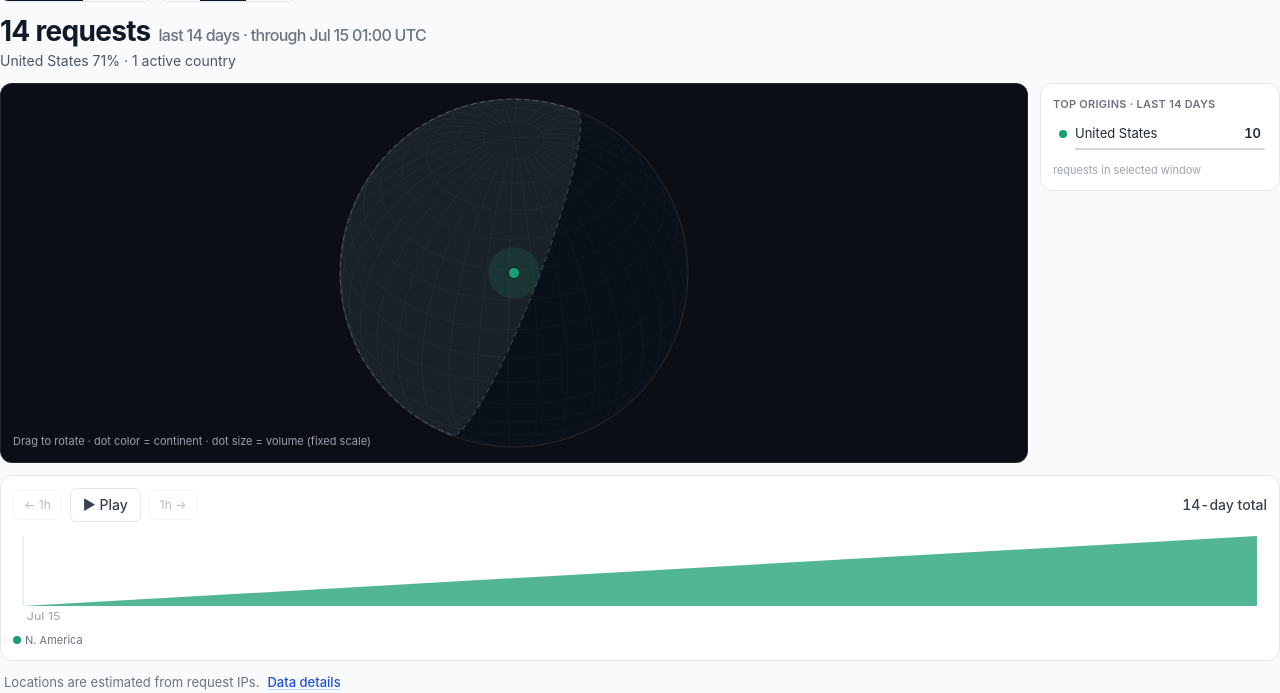
GeoGlobe › opens data details with totals, coverage, and DB-IP attribution
(page scrolled)
Click the button "Data details". click: (304, 683)
box: [268,673,341,692]
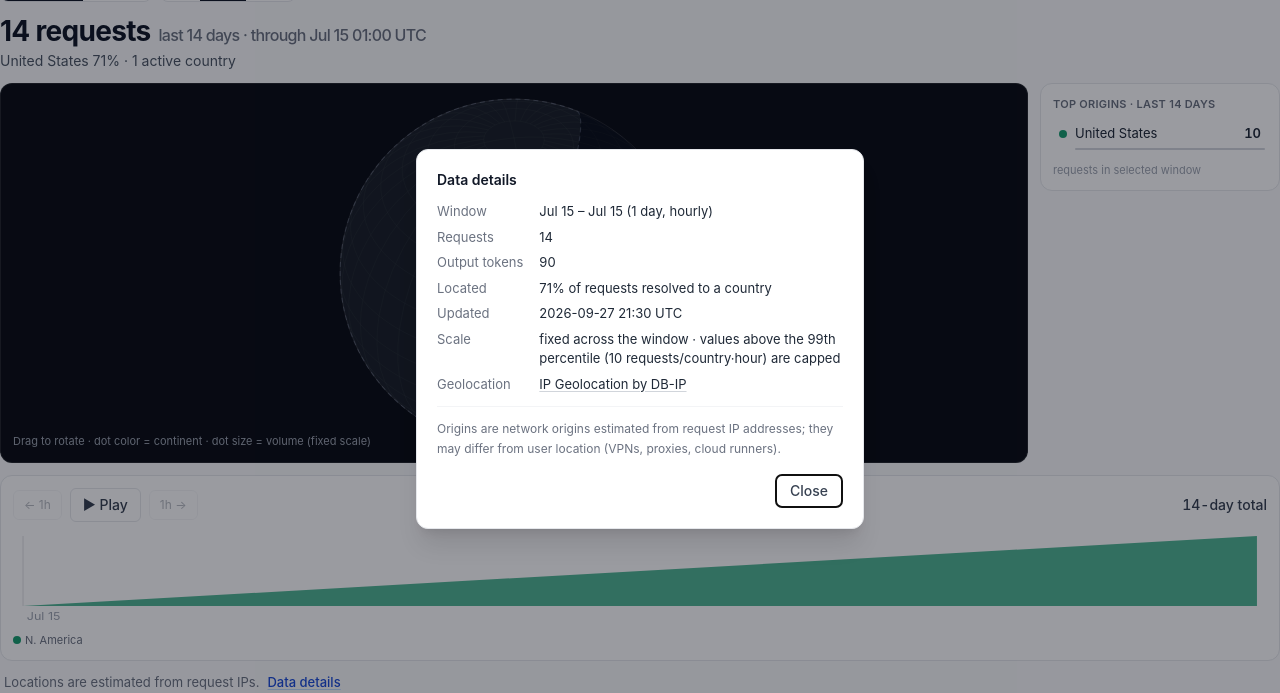
Check: the text "14" is shown, box [539,228,553,244]
Check: the text "90" is shown, box [539,254,556,270]
Check: the text "71% of requests resolved to a country" is shown, box [539,280,772,296]
Click the button "Close". click: (809, 491)
box: [775,474,843,508]
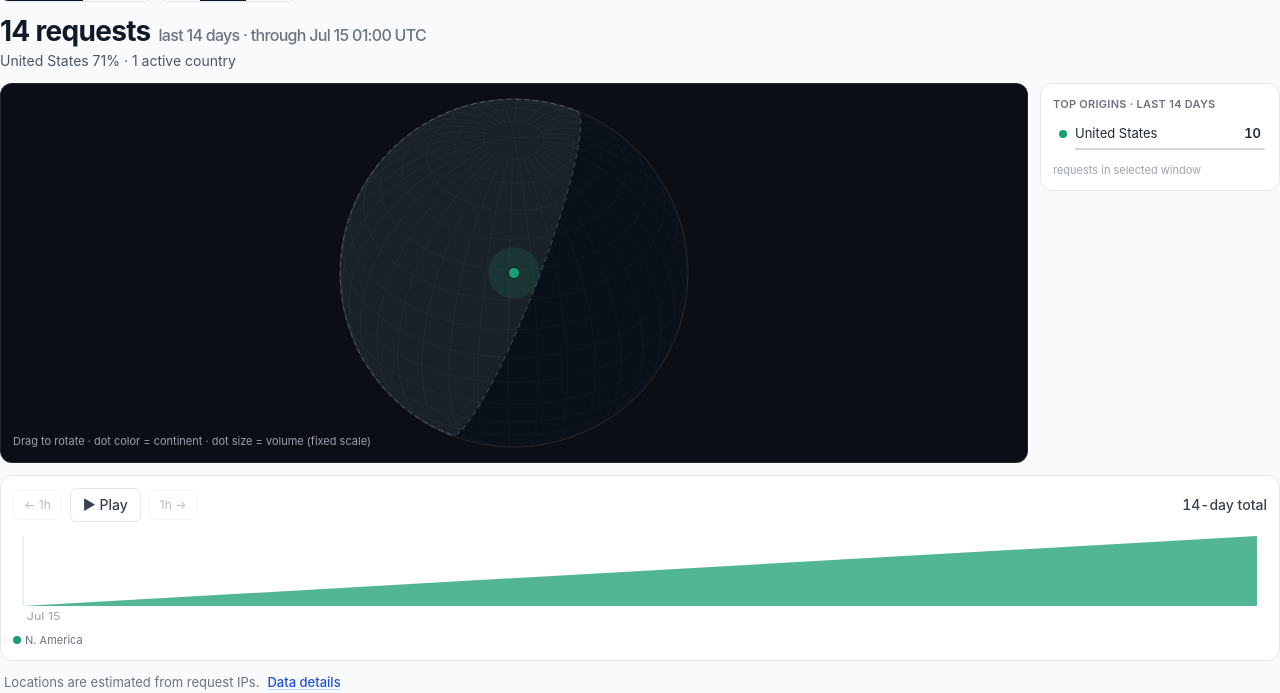
Check: the dialog is gone
